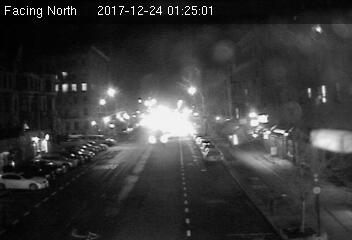car: (202, 148, 224, 162), (146, 133, 169, 144)
